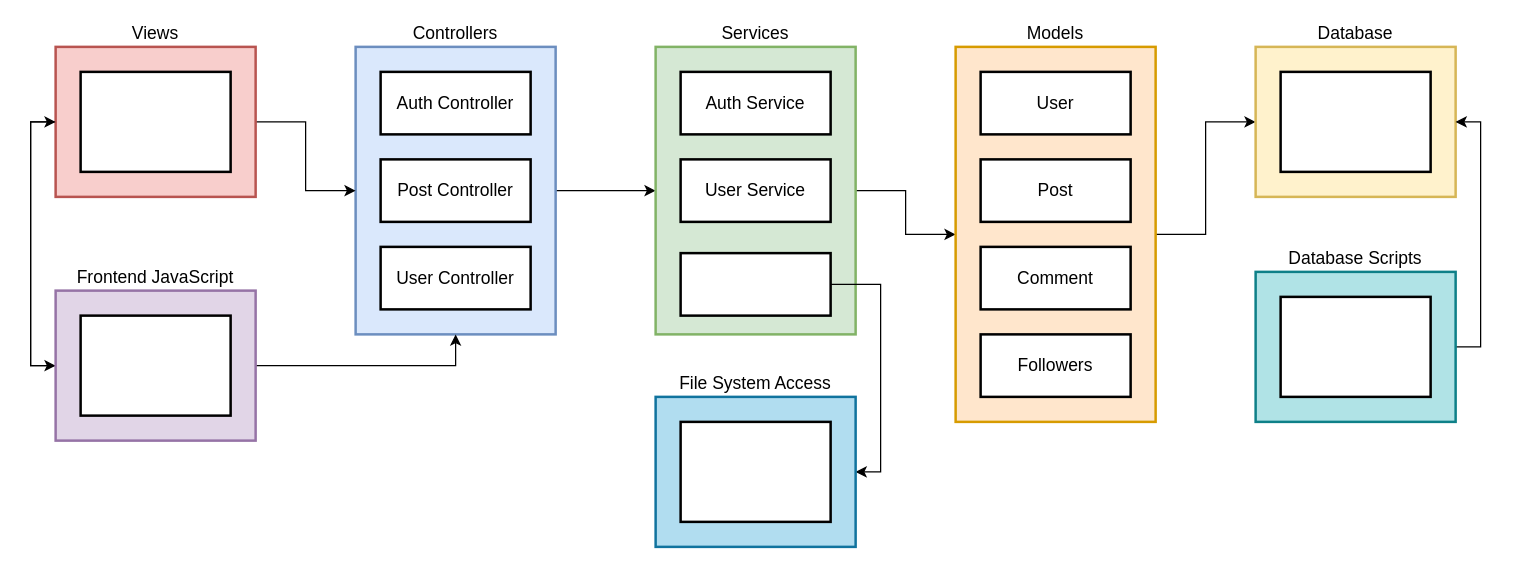
Image size: 1513x569. Some labels were removed from this diagram. Each missing label, with the centre of its shape:
"*.js" belongs at [155,365].
"Post Service" belongs at [755,283].
"PostgreSQL" belongs at [1355,121].
"Prep scripts Seed scripts" belongs at [1355,346].
"Reading / writing to the file system" belongs at [755,471].
"Templates Partials Styling" belongs at [155,121].
